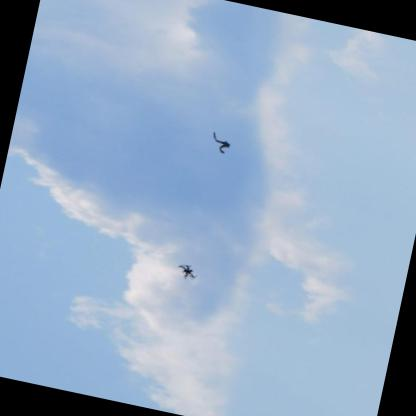drone: (170, 261, 201, 284)
